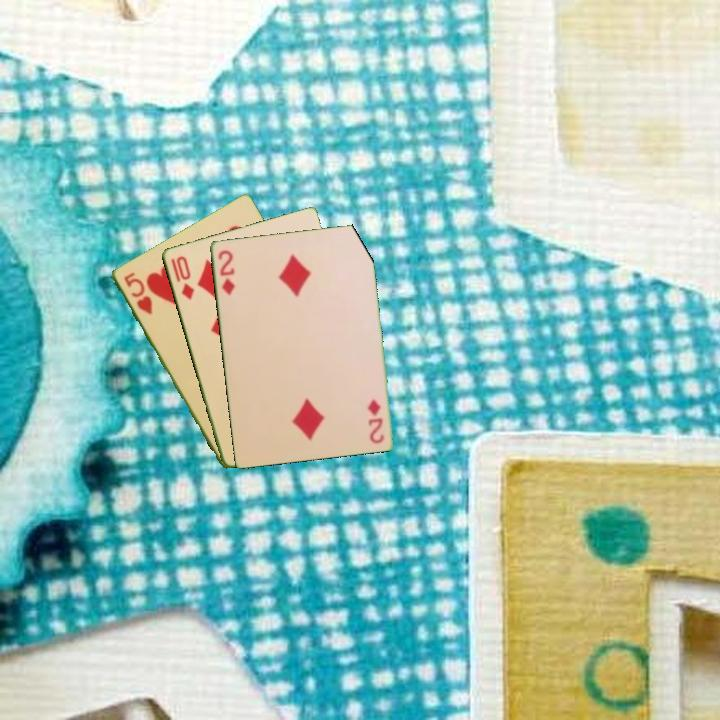10d: (167, 252, 197, 302)
2d: (214, 246, 237, 298), (364, 395, 387, 446)
5h: (120, 268, 155, 317)
